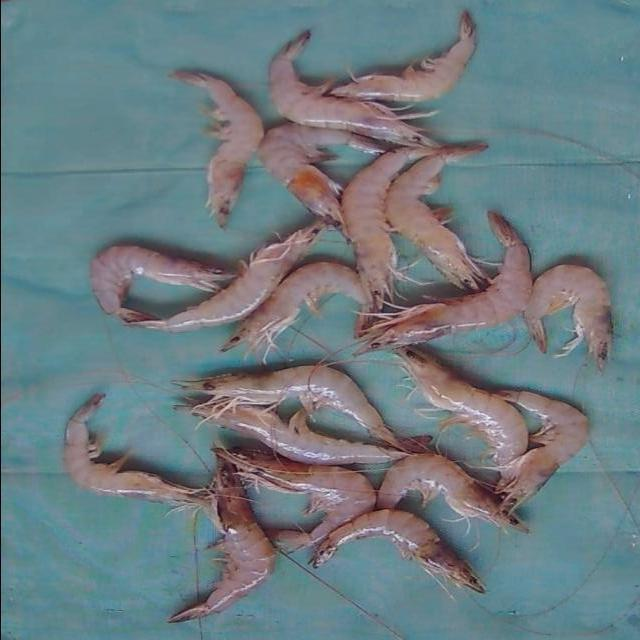shrimp: (356, 212, 532, 355), (123, 222, 322, 332), (268, 31, 436, 146), (175, 365, 401, 448), (399, 348, 528, 492), (62, 394, 215, 508), (168, 461, 274, 623), (213, 449, 376, 551), (164, 401, 407, 465), (384, 144, 489, 292), (221, 262, 373, 362), (340, 147, 433, 307), (310, 510, 485, 595), (169, 71, 263, 228), (257, 123, 386, 227), (331, 10, 475, 101), (376, 455, 528, 533), (495, 391, 588, 513), (89, 246, 235, 320), (524, 265, 613, 370)
